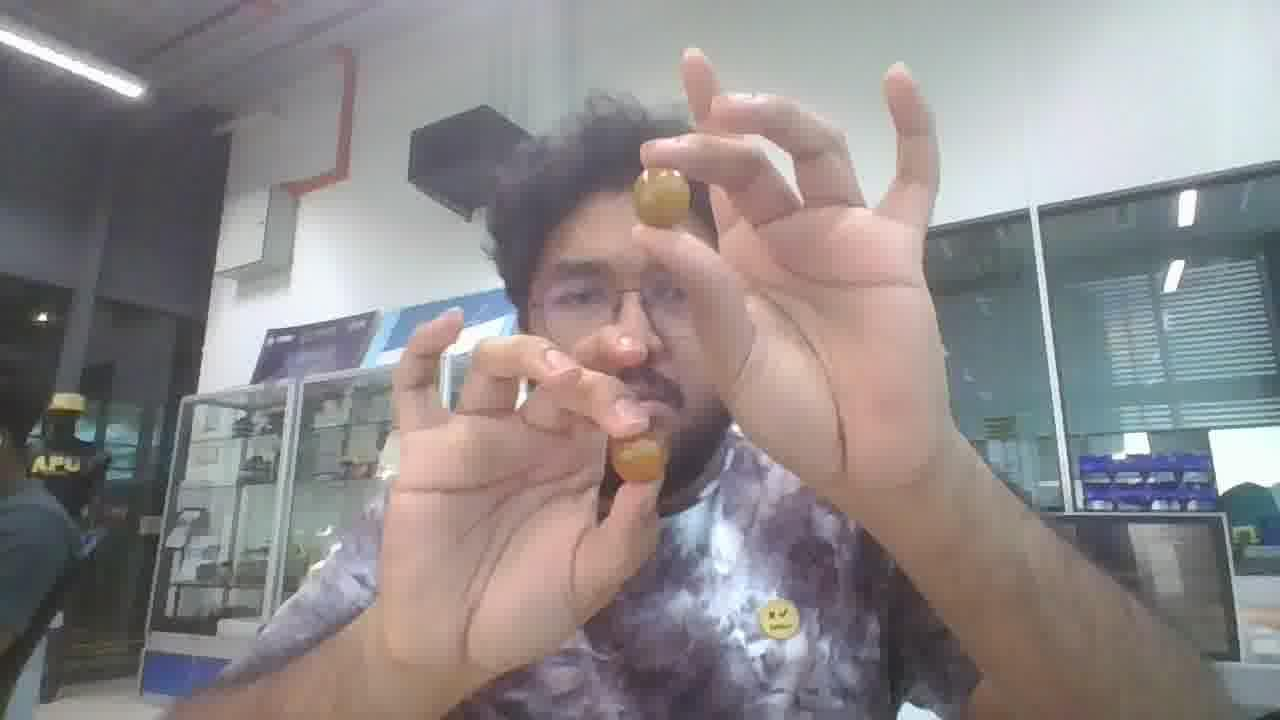yellow_cherry_tomato: (632, 169, 691, 228), (610, 434, 667, 482)
